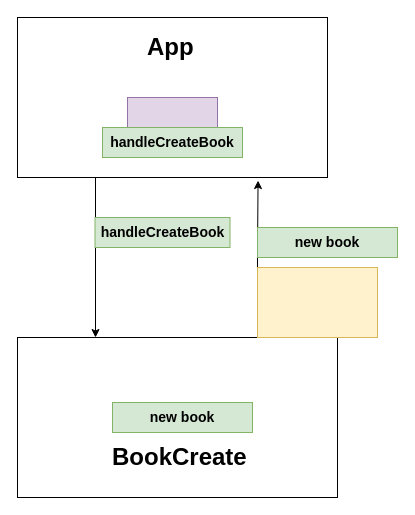
The diagram is 415 pixels wide and 515 high, and some of its shapes have lost their labels. The shapes that lost their labels are listed below. From the top down, each one's box as (x1, y1, x2, y2) in pixels, then its label:
(126, 96, 218, 128): Books
(256, 266, 378, 338): user entered a title and pressed enter. i need to tell my parent
